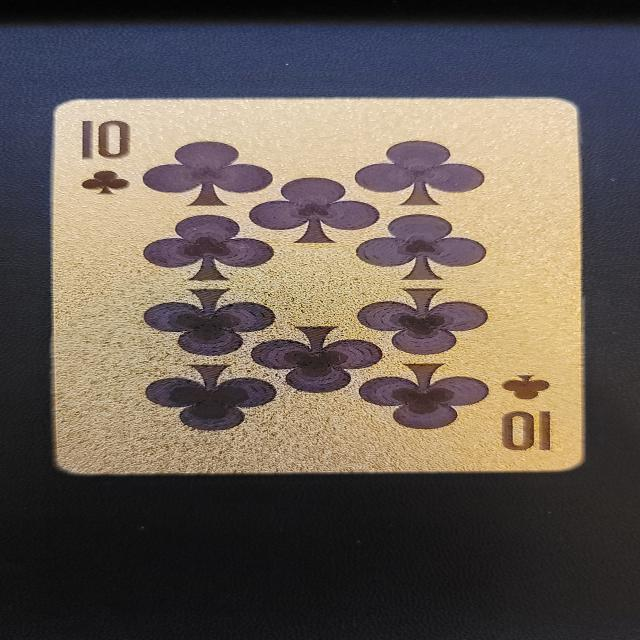10 of clubs: (46, 99, 584, 475)
